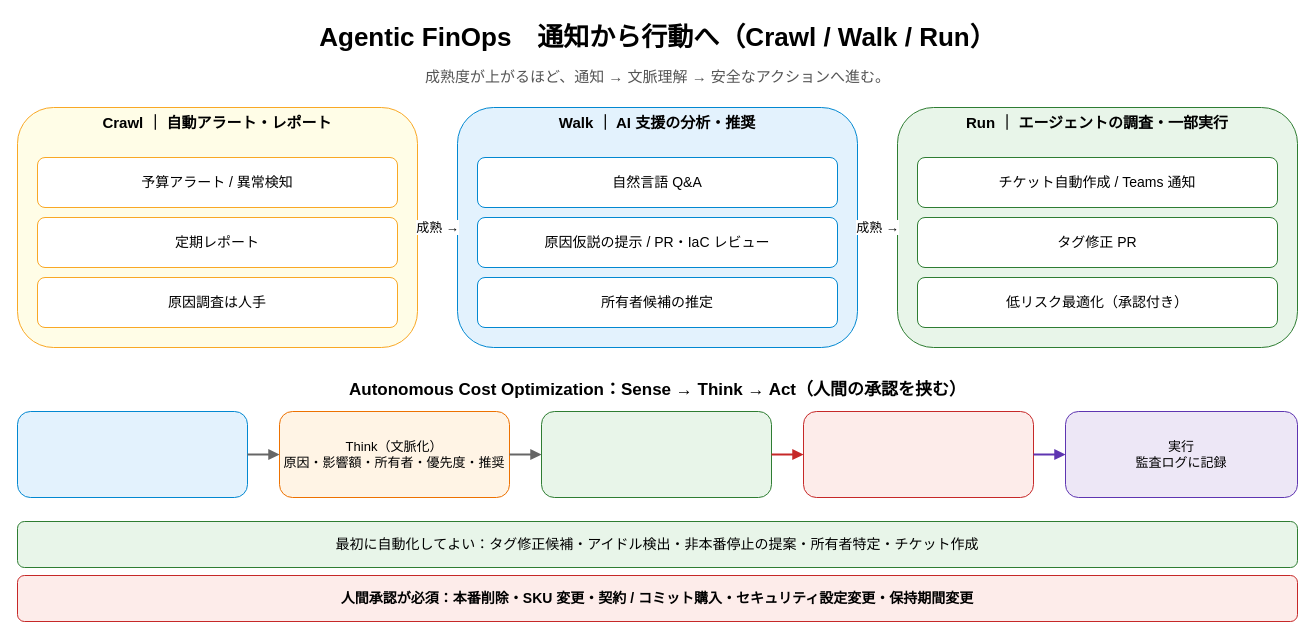
The diagram is 1315 pixels wide and 639 high, and some of its shapes have lost their labels. Here are the shapes that lost their labels. From the top down, the centre of each, then its label:
At (x=132, y=454): "Sense（検知） 請求・利用量・タグ・変更履歴・メトリクス".
At (x=656, y=454): "Act（実行準備） チケット・通知・PR・低リスク最適化".
At (x=918, y=454): "人間の承認 Observe → Recommend → Approve → Act".
